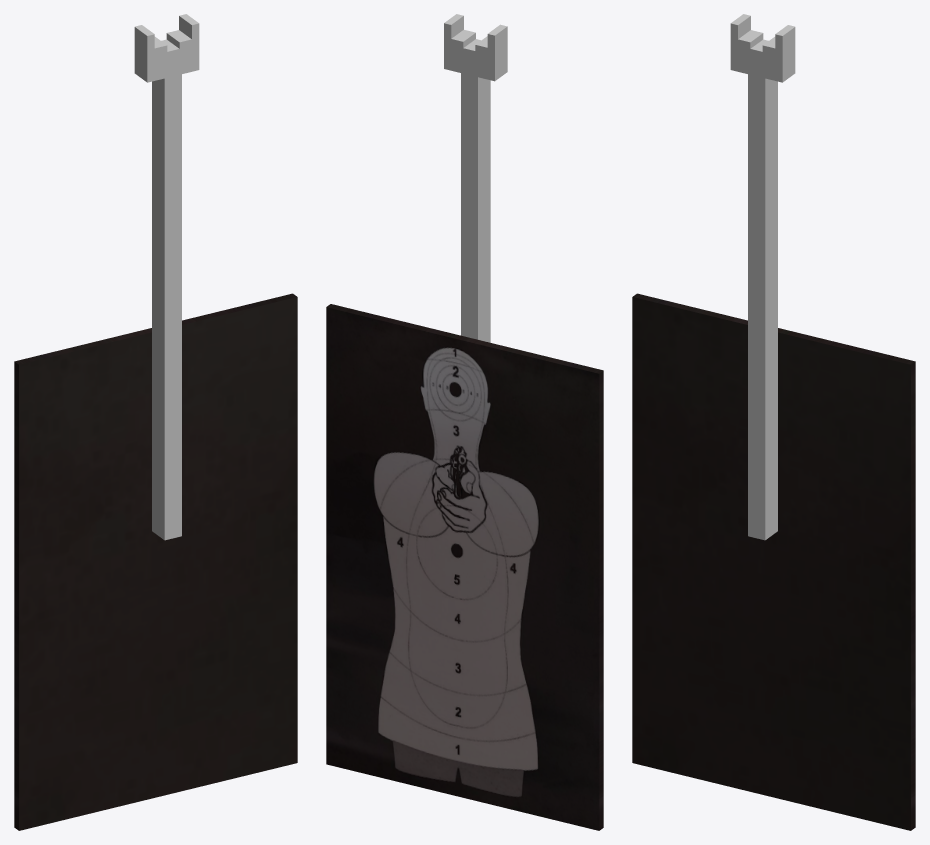
Rendered from MoveTarget.fbx.
3 views of the same model, side by side, from view 1: azimuth 30°, elevation 25°; view 2: azimuth 150°, elevation 25°; view 3: azimuth 330°, elevation 25° (orthographic).
Visible parts, largest first — view 1: Plane, TrilhoBarra; view 2: Plane, TrilhoBarra; view 3: Plane, TrilhoBarra.
Boxes of the visible parts, x1,y1,x2,y2 form: Plane: (14,293,297,830); TrilhoBarra: (134,14,199,540); Plane: (326,304,603,830); TrilhoBarra: (444,14,507,342); Plane: (632,293,915,830); TrilhoBarra: (730,14,795,540).
Bounding box in the file's own units: 75 × 200 × 9.19.
